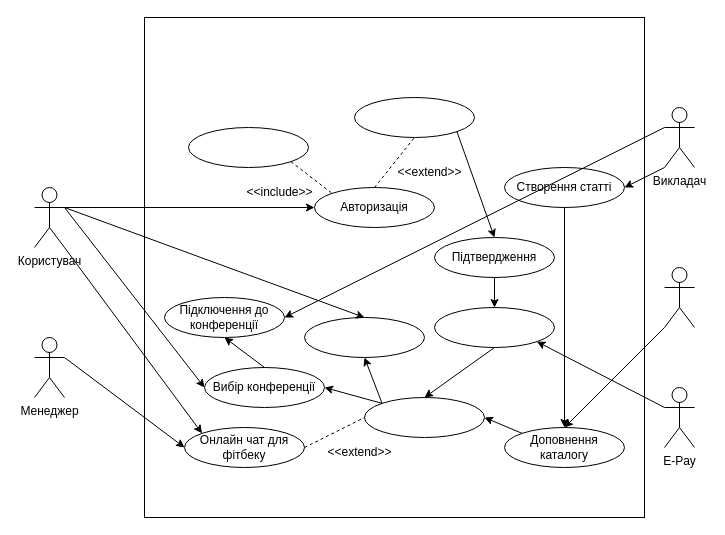
The diagram is 725 pixels wide and 535 high, and some of its shapes have lost their labels. The box of each missing label's shape, as (x1, y1, x2, y2) in pixels:
Вибір курсу: (354, 96, 474, 138)
Вибір статті: (304, 316, 424, 358)
Відображення каталогу: (364, 396, 484, 438)
Оплата: (434, 306, 554, 348)
Персональне опитування: (188, 126, 308, 168)
Розробник: (664, 266, 694, 328)
